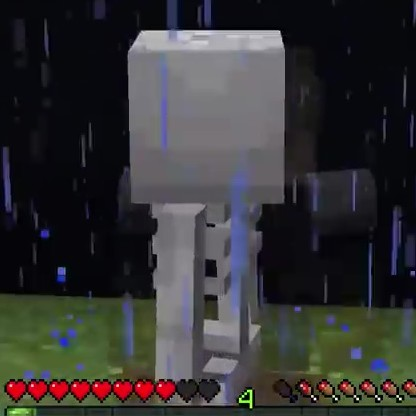skeleton: (124, 25, 292, 372)
